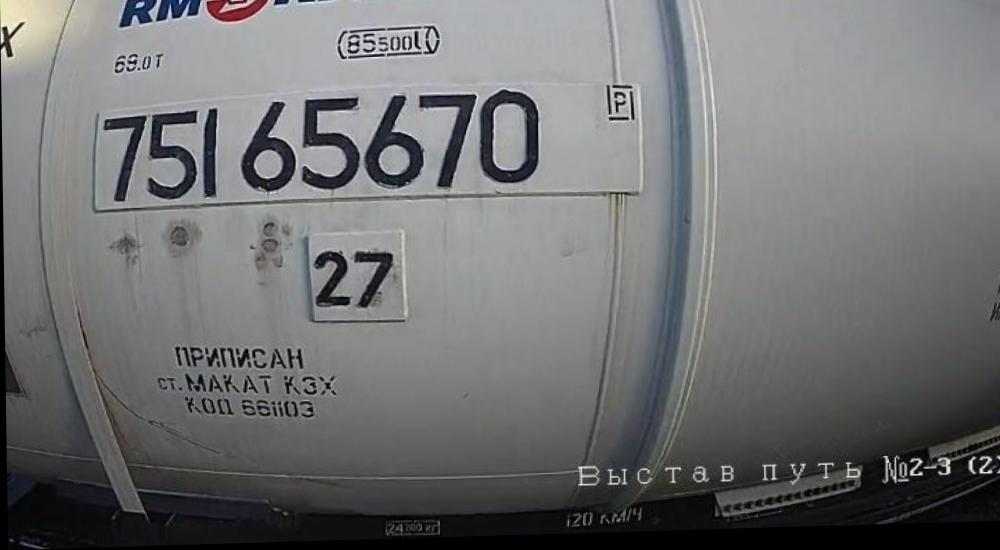Wagon-number: (91, 87, 548, 204)
